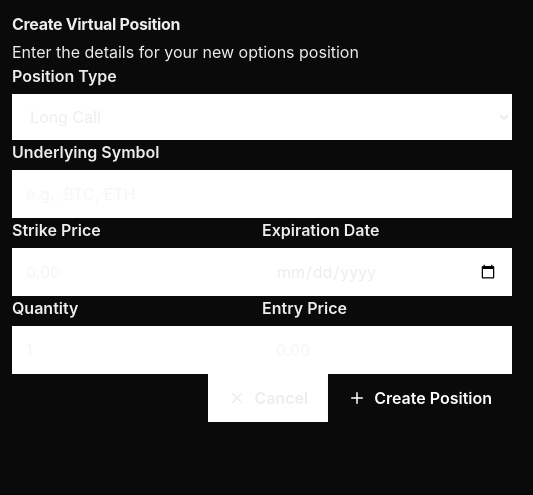
Test case: CreatePositionForm › validates that entry price must be non-negative
Type "-5" into the number field labelled "Entry Price".
click(387, 350); type("-5")  # box [262,326,512,374]
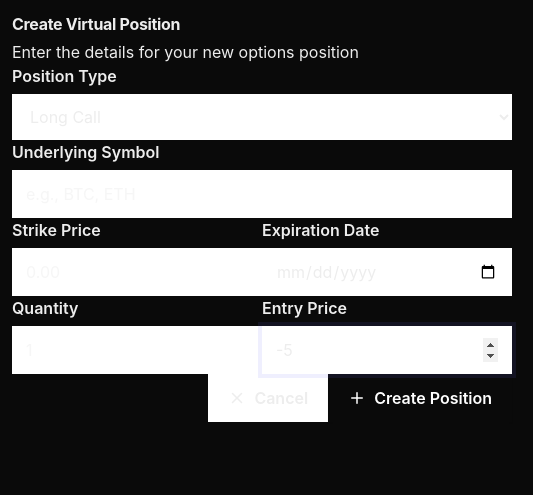
Leave the number field labelled "Entry Price", box [262,326,512,374]
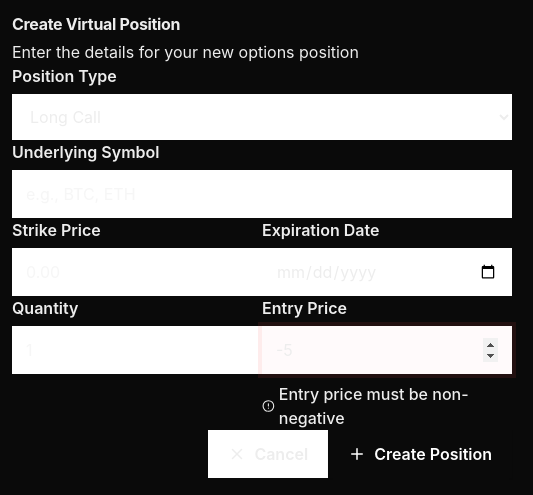
Now the text "Entry price must be non-negative" is shown, box [262,384,469,428]
